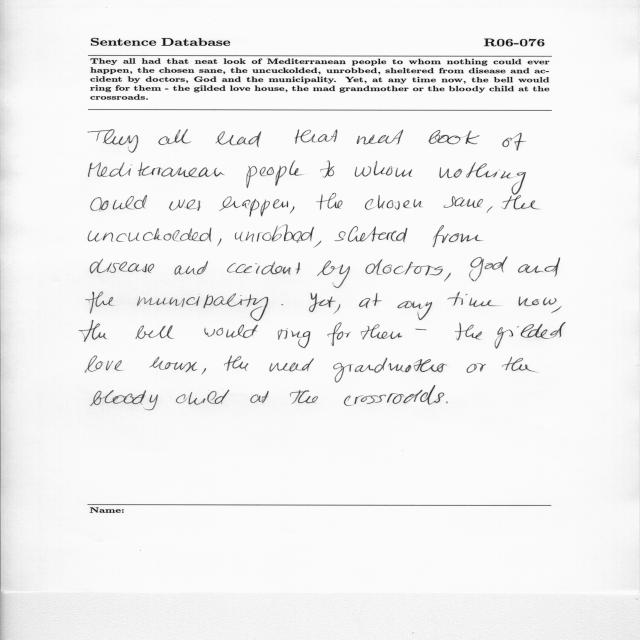word: (137, 293, 268, 321), (439, 162, 526, 195), (333, 358, 447, 383), (344, 385, 444, 406), (88, 162, 225, 177), (88, 227, 212, 242), (495, 322, 566, 348), (246, 161, 303, 188), (219, 196, 288, 217), (235, 225, 314, 243), (90, 390, 158, 410), (365, 260, 443, 276), (88, 129, 138, 153), (335, 226, 408, 242), (433, 225, 483, 247), (90, 259, 154, 274), (227, 262, 300, 275), (469, 257, 508, 281), (355, 161, 412, 177), (91, 195, 147, 211), (317, 261, 350, 288), (365, 195, 423, 210), (86, 292, 114, 321), (518, 258, 560, 277), (176, 390, 229, 405), (448, 292, 498, 307), (216, 131, 262, 147), (149, 357, 198, 372), (428, 130, 480, 144), (204, 325, 258, 338), (357, 130, 403, 145), (397, 301, 432, 320), (278, 328, 311, 348), (361, 324, 402, 340), (295, 129, 338, 144), (269, 358, 314, 372), (85, 356, 122, 373), (79, 321, 107, 342), (328, 322, 352, 346), (502, 195, 540, 210), (136, 325, 174, 339), (158, 129, 191, 145), (502, 357, 537, 372), (309, 293, 336, 312), (444, 196, 483, 208), (175, 261, 208, 275), (316, 193, 343, 210), (455, 323, 482, 340), (502, 133, 526, 151), (290, 390, 318, 404), (169, 199, 201, 211), (224, 356, 248, 371), (359, 293, 382, 308), (543, 297, 561, 313), (321, 161, 335, 178), (250, 391, 269, 403), (518, 297, 539, 307), (467, 363, 486, 373), (334, 304, 340, 314), (444, 273, 451, 281), (314, 241, 321, 248), (487, 207, 493, 214), (290, 206, 294, 214), (218, 238, 222, 246), (202, 368, 206, 374), (415, 329, 427, 330), (446, 402, 448, 404), (282, 304, 284, 305)
